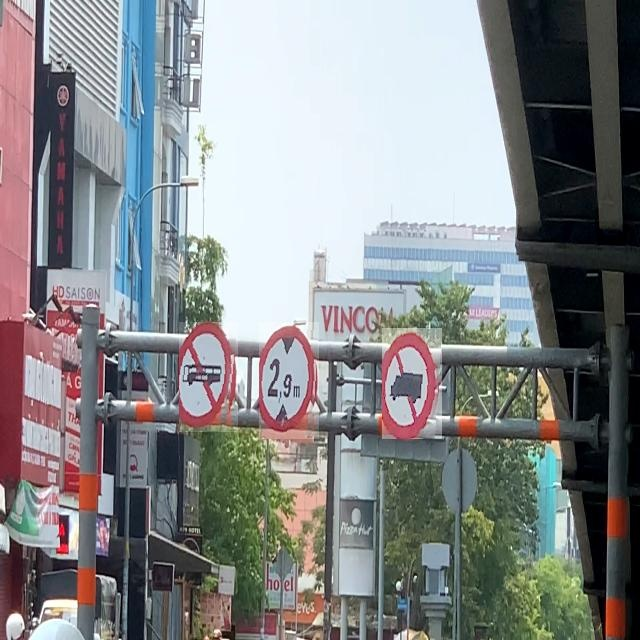bien_cam: (259, 322, 319, 439), (382, 328, 442, 439), (179, 322, 238, 432)
